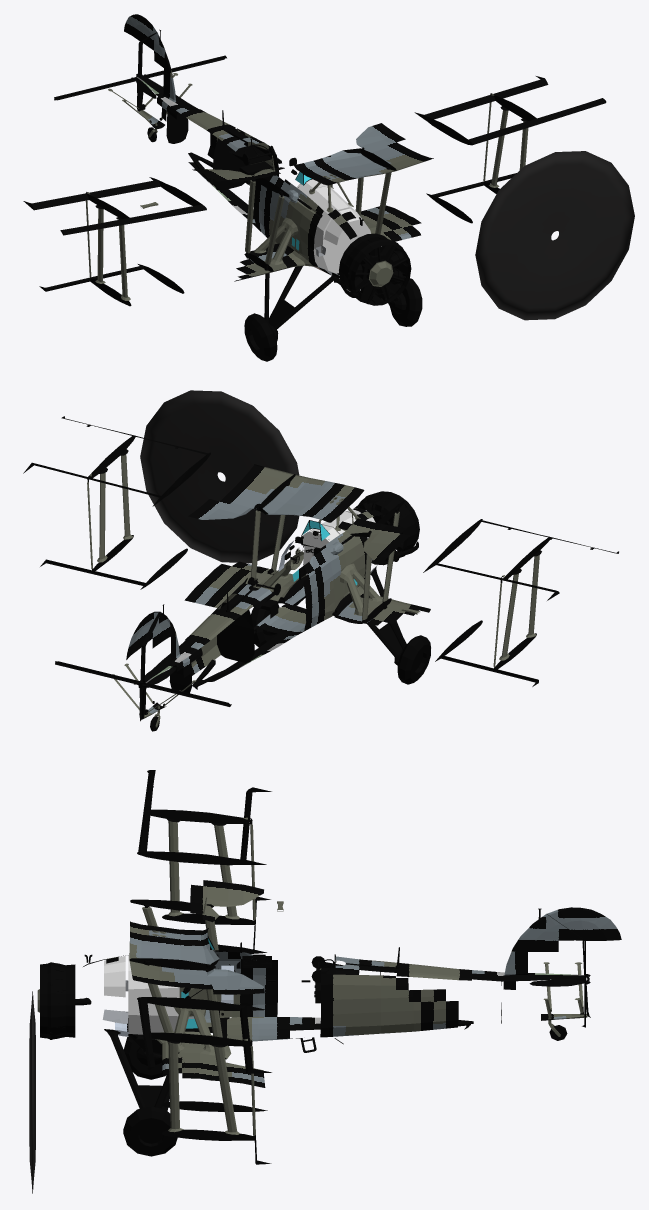
The model's file is Swordfish.fbx.
The picture shows the model from 3 angles, top to bottom: view 1: azimuth 30°, elevation 25°; view 2: azimuth 150°, elevation 25°; view 3: azimuth 270°, elevation 25°; orthographic projection. The views are drawn at different scales.
Parts seen in each view (by area): view 1: Swordfish Propeller Spinning, Swordfish Fuselage, Swordfish Nose, Swordfish Upper Wing Center, Swordfish Tail, Swordfish Left Upper Wing Section 1, Swordfish Fuel Tank, Swordfish Left Lower Wing Section 1, Swordfish Right Landing Gear, Swordfish Right Wheel, Swordfish Left Upper Wing Section 2, Swordfish Tail Tip (+11 smaller); view 2: Swordfish Propeller Spinning, Swordfish Fuselage, Swordfish Upper Wing Center, Swordfish Tail, Swordfish Left Upper Wing Section 1, Swordfish Left Lower Wing Section 1, Swordfish Nose, Swordfish Right Upper Wing Section 1, Swordfish Right Wheel, Swordfish Tail Tip, Swordfish Rudder, Swordfish Right Lower Wing Section 1 (+9 smaller); view 3: Swordfish Fuselage, Swordfish Tail, Swordfish Upper Wing Center, Swordfish Left Upper Wing Section 1, Swordfish Nose, Swordfish Right Upper Wing Section 1, Swordfish Left Lower Wing Section 1, Swordfish Fin, Swordfish Left Wheel, Swordfish Rudder, Swordfish Fuel Tank, Swordfish Left Landing Gear (+15 smaller).
Part boxes in pixels (bbox=[...]): Swordfish Propeller Spinning: bbox=[475, 151, 634, 320]; Swordfish Fuselage: bbox=[212, 132, 372, 275]; Swordfish Nose: bbox=[334, 233, 411, 305]; Swordfish Upper Wing Center: bbox=[253, 148, 396, 212]; Swordfish Tail: bbox=[166, 101, 243, 189]; Swordfish Left Upper Wing Section 1: bbox=[356, 112, 472, 170]; Swordfish Fuel Tank: bbox=[308, 186, 354, 273]; Swordfish Left Lower Wing Section 1: bbox=[360, 193, 472, 241]; Swordfish Right Landing Gear: bbox=[264, 266, 339, 340]; Swordfish Right Wheel: bbox=[244, 313, 277, 361]; Swordfish Left Upper Wing Section 2: bbox=[424, 93, 537, 138]; Swordfish Tail Tip: bbox=[136, 75, 185, 128]; Swordfish Propeller Spinning: bbox=[140, 390, 299, 563]; Swordfish Fuselage: bbox=[217, 495, 391, 662]; Swordfish Upper Wing Center: bbox=[259, 474, 404, 537]; Swordfish Tail: bbox=[169, 593, 249, 693]; Swordfish Left Upper Wing Section 1: bbox=[153, 452, 293, 519]; Swordfish Left Lower Wing Section 1: bbox=[140, 548, 276, 607]; Swordfish Nose: bbox=[353, 491, 419, 565]; Swordfish Right Upper Wing Section 1: bbox=[363, 507, 480, 572]; Swordfish Right Wheel: bbox=[397, 635, 430, 684]; Swordfish Tail Tip: bbox=[139, 653, 191, 719]; Swordfish Rudder: bbox=[126, 611, 160, 721]; Swordfish Right Lower Wing Section 1: bbox=[365, 599, 482, 655]; Swordfish Fuselage: bbox=[83, 936, 381, 1059]; Swordfish Tail: bbox=[380, 947, 501, 1033]; Swordfish Upper Wing Center: bbox=[129, 897, 219, 970]; Swordfish Left Upper Wing Section 1: bbox=[129, 960, 264, 1010]; Swordfish Nose: bbox=[37, 962, 91, 1039]; Swordfish Right Upper Wing Section 1: bbox=[137, 851, 266, 907]; Swordfish Left Lower Wing Section 1: bbox=[162, 1052, 265, 1111]; Swordfish Fin: bbox=[504, 908, 585, 977]; Swordfish Left Wheel: bbox=[123, 1106, 177, 1156]; Swordfish Rudder: bbox=[547, 907, 621, 1017]; Swordfish Fuel Tank: bbox=[128, 955, 179, 1034]; Swordfish Left Landing Gear: bbox=[104, 1029, 169, 1110].
Size of what is drawn, in the model's own units: 1392 by 427 by 1134.
